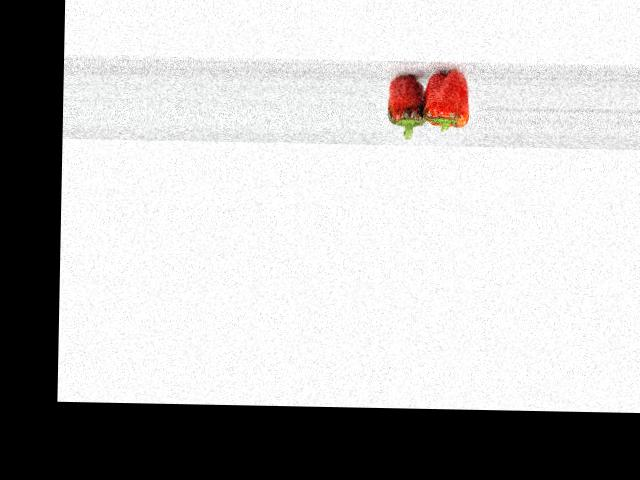bell_pepper: (424, 69, 477, 135)
